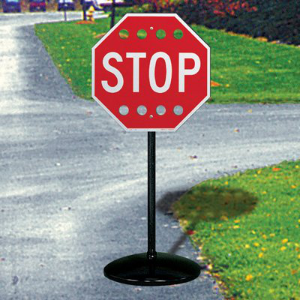STOP_SIGN: (91, 12, 211, 132)
